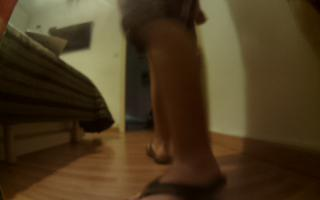person: (113, 1, 230, 200)
